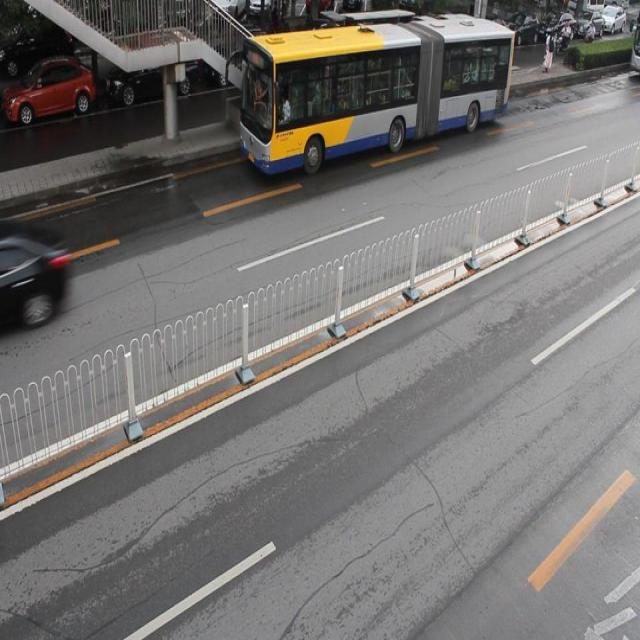car: (1, 228, 68, 338), (1, 54, 92, 121), (103, 40, 194, 99), (205, 25, 271, 88), (288, 24, 356, 78)
van: (239, 10, 511, 170)
